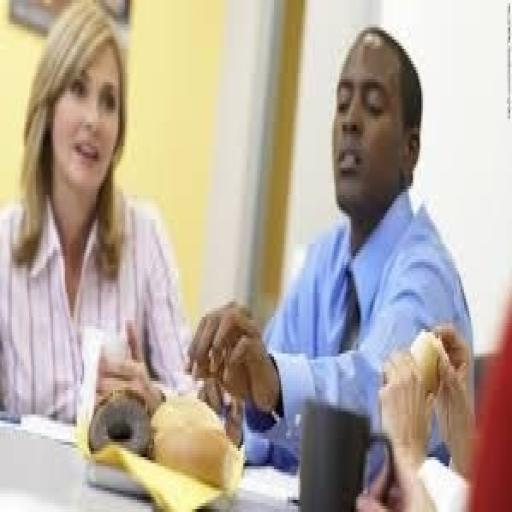eating: (185, 22, 476, 478), (0, 3, 199, 427)
